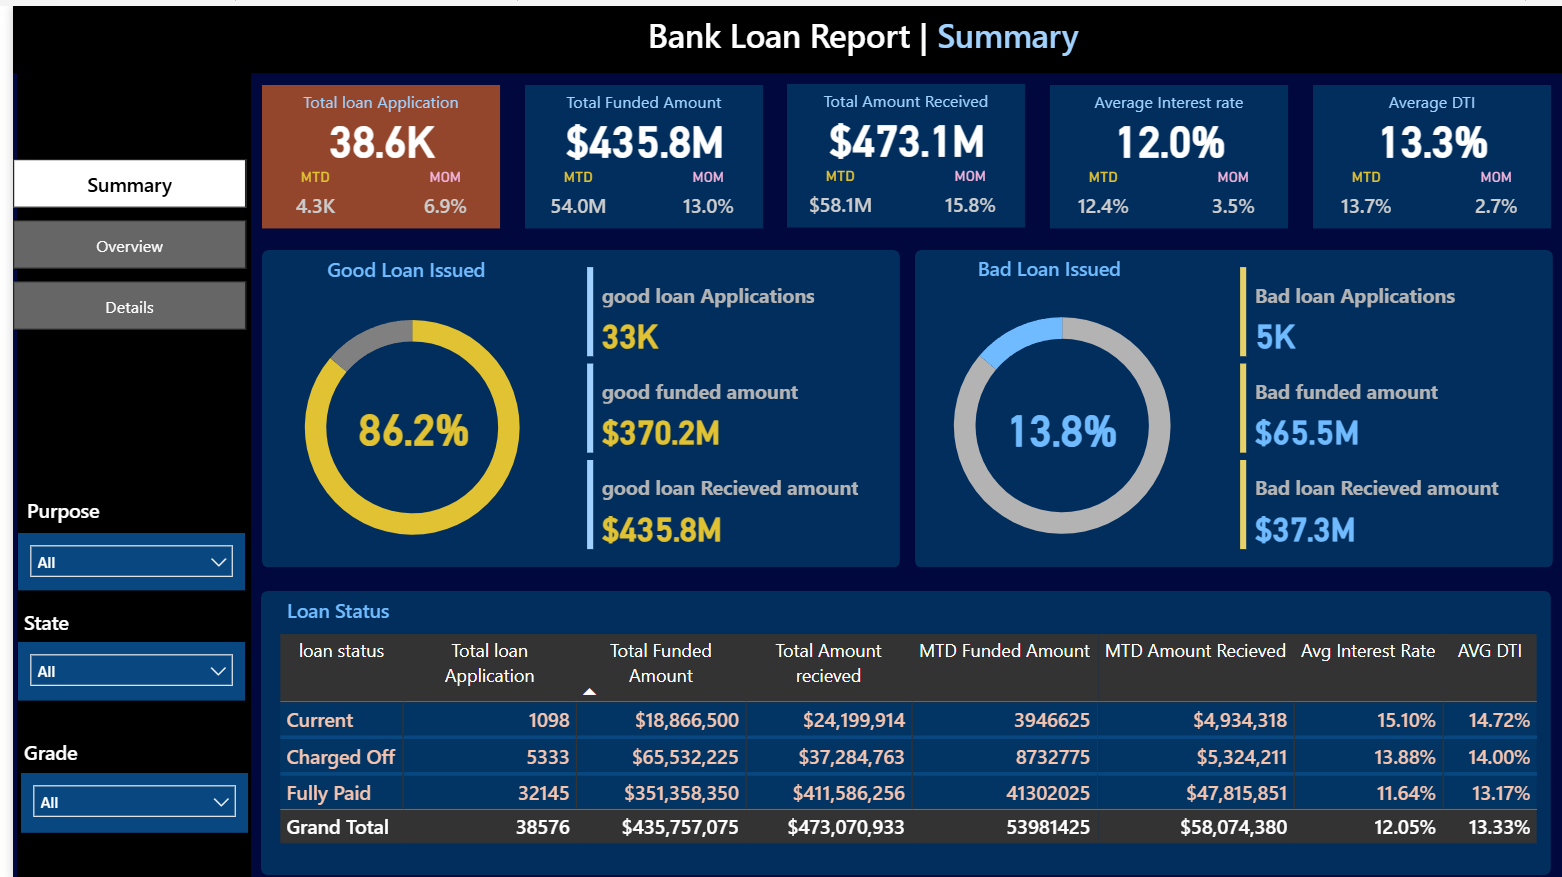

What the dashboard file says about the page in this screenshot:
{"tool":"powerbi","page":{"name":"Summary","canvas":[1280,720],"ordinal":0},"visuals":[{"type":"shape","box":[0,0,1279.6,55],"z":0},{"type":"shape","box":[3.3,54.4,191.7,665.6],"z":1000},{"type":"textbox","box":[515.2,0,388.5,55.5],"z":2000},{"type":"shape","box":[634.4,63.8,195,117.5],"z":2000,"group":"g3"},{"type":"shape","box":[203.8,65,195,117.5],"z":2000,"group":"g1"},{"type":"shape","box":[419.1,65,195,117.5],"z":2000,"group":"g2"},{"type":"shape","box":[849.7,65,195,117.5],"z":2000,"group":"g4"},{"type":"shape","box":[1065,65,195,117.5],"z":2000,"group":"g5"},{"type":"shape","box":[203.8,200,522.5,260],"z":3000},{"type":"card","fields":{"Values":["Bank_load_data.Total Amount recieved"]},"box":[655.6,83.8,153.8,48.8],"z":4000,"group":"g3"},{"type":"card","fields":{"Values":["Bank_load_data.Total loan Application"]},"box":[225,85,153.8,48.8],"z":4000,"group":"g1"},{"type":"card","fields":{"Values":["Bank_load_data.Total Funded Amount"]},"box":[440.3,85,153.8,48.8],"z":4000,"group":"g2"},{"type":"card","fields":{"Values":["Bank_load_data.Avg Interest Rate"]},"box":[870.9,85,153.8,48.8],"z":4000,"group":"g4"},{"type":"card","fields":{"Values":["Bank_load_data.AVG DTI"]},"box":[1086.2,85,153.8,48.8],"z":4000,"group":"g5"},{"type":"card","fields":{"Values":["Bank_load_data.good loan %"]},"box":[256.2,320,143.8,48.8],"z":4000},{"type":"textbox","box":[634.4,63.8,195,32.5],"z":5000,"group":"g3"},{"type":"group","id":"g1","title":"Group 1","box":[203.8,65,195,120],"z":5000},{"type":"textbox","box":[203.8,65,195,32.5],"z":5000,"group":"g1"},{"type":"textbox","box":[419.1,65,195,32.5],"z":5000,"group":"g2"},{"type":"textbox","box":[849.7,65,195,32.5],"z":5000,"group":"g4"},{"type":"textbox","box":[1065,65,195,32.5],"z":5000,"group":"g5"},{"type":"card","title":"MTD","fields":{"Values":["Bank_load_data.MTD Amount Recieved"]},"box":[644.4,132.6,67.5,51.2],"z":6000,"group":"g3"},{"type":"card","title":"MTD","fields":{"Values":["Bank_load_data.MTD loan Application"]},"box":[213.8,133.8,67.5,51.2],"z":6000,"group":"g1"},{"type":"card","title":"MTD","fields":{"Values":["Bank_load_data.MTD Funded Amount"]},"box":[429.1,133.8,67.5,51.2],"z":6000,"group":"g2"},{"type":"card","title":"MTD","fields":{"Values":["Bank_load_data.MTD AVG inr rate"]},"box":[859.7,133.8,67.5,51.2],"z":6000,"group":"g4"},{"type":"card","title":"MTD","fields":{"Values":["Bank_load_data.MTD AVG DTI"]},"box":[1075,133.8,67.5,51.2],"z":6000,"group":"g5"},{"type":"donutChart","fields":{"Category":["Bank_load_data.Good vs bad loan"],"Y":["Bank_load_data.Total loan Application"]},"box":[201.2,229.9,251,229.9],"z":6000},{"type":"group","id":"g2","title":"Group 1","box":[419.1,65,195,120],"z":7000},{"type":"card","title":"MOM","fields":{"Values":["Bank_load_data.MoM Total Amount Recieved"]},"box":[750.6,132.6,67.5,51.2],"z":7000,"group":"g3"},{"type":"card","title":"MOM","fields":{"Values":["Bank_load_data.MoM Loan Application"]},"box":[320,133.8,67.5,51.2],"z":7000,"group":"g1"},{"type":"card","title":"MOM","fields":{"Values":["Bank_load_data.MoM Total Funded Amount"]},"box":[535.3,133.8,67.5,51.2],"z":7000,"group":"g2"},{"type":"card","title":"MOM","fields":{"Values":["Bank_load_data.MoM Avg int rate"]},"box":[965.9,133.8,67.5,51.2],"z":7000,"group":"g4"},{"type":"card","title":"MOM","fields":{"Values":["Bank_load_data.MoM Avg DTI"]},"box":[1181.2,133.8,67.5,51.2],"z":7000,"group":"g5"},{"type":"group","id":"g3","title":"Group 1","box":[634.4,63.8,195,120],"z":8000},{"type":"group","id":"g4","title":"Group 1","box":[849.7,65,195,120],"z":9000},{"type":"group","id":"g5","title":"Group 1","box":[1065,65,195,120],"z":10000},{"type":"shape","box":[738.8,200,522.5,260],"z":11000},{"type":"textbox","box":[225,200,193.8,38.8],"z":12000},{"type":"cardVisual","fields":{"Data":["Bank_load_data.good loan Applications","Bank_load_data.good funded amount","Bank_load_data.good loan Recieved amount"]},"box":[465.6,208.9,249.1,241.4],"z":13000},{"type":"donutChart","fields":{"Category":["Bank_load_data.Good vs bad loan"],"Y":["Bank_load_data.Total loan Application"]},"box":[733.9,228,251,231.9],"z":14000},{"type":"textbox","box":[751.1,199.3,195.4,38.3],"z":15000},{"type":"card","fields":{"Values":["Bank_load_data.Bad loan %"]},"box":[787.5,320,143.7,49.8],"z":16000},{"type":"cardVisual","fields":{"Data":["Bank_load_data.Bad loan Applications","Bank_load_data.Bad funded amount","Bank_load_data.Bad loan Recieved amount"]},"box":[1000.2,208.9,249.1,241.4],"z":17000},{"type":"shape","box":[203.4,478.9,1056.6,232.7],"z":18000},{"type":"tableEx","fields":{"Values":["Bank_load_data.loan_status","Bank_load_data.Total loan Application","Bank_load_data.Total Funded Amount","Bank_load_data.Total Amount recieved","Bank_load_data.MTD Funded Amount","Bank_load_data.MTD Amount Recieved","Bank_load_data.Avg Interest Rate","Bank_load_data.AVG DTI"]},"box":[212.7,509.9,1044.8,198.4],"z":19000},{"type":"textbox","box":[219.3,478.9,180.8,31],"z":20000},{"type":"slicer","fields":{"Values":["Bank_load_data.address_state"]},"box":[3.8,521.2,185.9,47.9],"z":21000},{"type":"textbox","box":[4.2,488.9,185.9,32.7],"z":22000},{"type":"slicer","fields":{"Values":["Bank_load_data.grade"]},"box":[6.7,627.9,185.9,48.6],"z":23000},{"type":"textbox","box":[4.3,595.1,184.6,32.8],"z":24000},{"type":"slicer","fields":{"Values":["Bank_load_data.purpose"]},"box":[4.3,431.3,186.3,47.4],"z":25000},{"type":"textbox","box":[6.9,397.6,183.7,33.6],"z":26000},{"type":"pageNavigator","box":[0,125.6,191.1,142.2],"z":27000}]}

Visuals, with their boxes in screenshot pixels (x1, y1, x2, y2), scaled from the page's 1280x720 canvas onto the 1562x877 screenshot:
shape: (0,0,1561,67)
shape: (4,66,238,876)
textbox: (629,0,1103,68)
shape: (774,78,1012,221)
shape: (249,79,487,222)
shape: (511,79,749,222)
shape: (1037,79,1275,222)
shape: (1300,79,1538,222)
shape: (249,244,886,560)
card - Bank_load_data.Total Amount recieved: (800,102,988,162)
card - Bank_load_data.Total loan Application: (275,104,462,163)
card - Bank_load_data.Total Funded Amount: (537,104,725,163)
card - Bank_load_data.Avg Interest Rate: (1063,104,1250,163)
card - Bank_load_data.AVG DTI: (1326,104,1513,163)
card - Bank_load_data.good loan %: (313,390,488,449)
textbox: (774,78,1012,117)
"Group 1" group: (249,79,487,225)
textbox: (249,79,487,119)
textbox: (511,79,749,119)
textbox: (1037,79,1275,119)
textbox: (1300,79,1538,119)
"MTD" card: (786,162,869,224)
"MTD" card: (261,163,343,225)
"MTD" card: (524,163,606,225)
"MTD" card: (1049,163,1131,225)
"MTD" card: (1312,163,1394,225)
donutChart - Bank_load_data.Good vs bad loan x Bank_load_data.Total loan Application: (246,280,552,560)
"Group 1" group: (511,79,749,225)
"MOM" card: (916,162,998,224)
"MOM" card: (390,163,473,225)
"MOM" card: (653,163,736,225)
"MOM" card: (1179,163,1261,225)
"MOM" card: (1441,163,1524,225)
"Group 1" group: (774,78,1012,224)
"Group 1" group: (1037,79,1275,225)
"Group 1" group: (1300,79,1538,225)
shape: (902,244,1539,560)
textbox: (275,244,511,291)
cardVisual - Bank_load_data.good loan Applications x Bank_load_data.good funded amount: (568,254,872,548)
donutChart - Bank_load_data.Good vs bad loan x Bank_load_data.Total loan Application: (896,278,1202,560)
textbox: (917,243,1155,289)
card - Bank_load_data.Bad loan %: (961,390,1136,450)
cardVisual - Bank_load_data.Bad loan Applications x Bank_load_data.Bad funded amount: (1221,254,1525,548)
shape: (248,583,1538,867)
tableEx - Bank_load_data.loan_status x Bank_load_data.Total loan Application: (260,621,1535,863)
textbox: (268,583,488,621)
slicer - Bank_load_data.address_state: (5,635,231,693)
textbox: (5,596,232,635)
slicer - Bank_load_data.grade: (8,765,235,824)
textbox: (5,725,231,765)
slicer - Bank_load_data.purpose: (5,525,233,583)
textbox: (8,484,233,525)
pageNavigator: (0,153,233,326)
